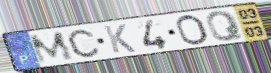4: (141, 18, 168, 51)
C: (66, 28, 101, 59)
K: (102, 23, 138, 54)
M: (28, 30, 77, 66)
O: (175, 13, 211, 47)
Q: (205, 10, 246, 43)
